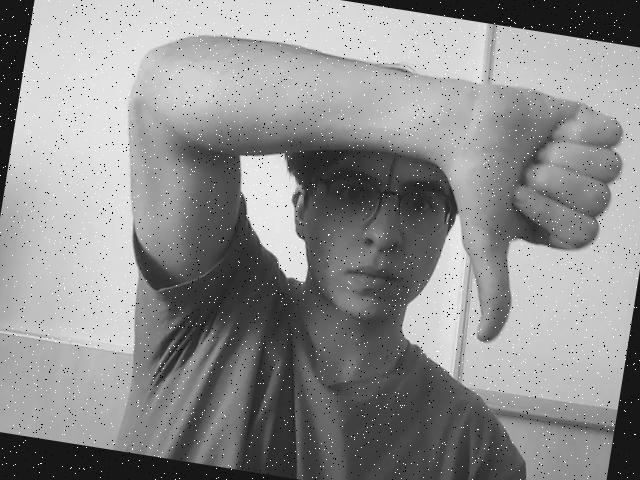bad: (436, 59, 640, 368)
